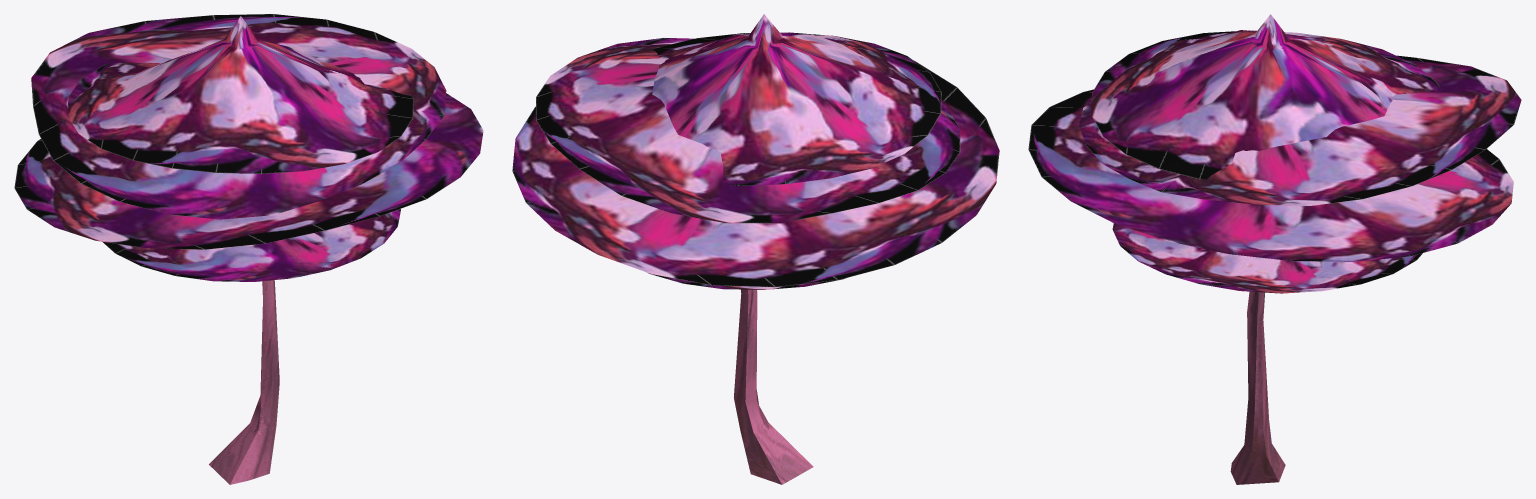
Rendered from arbre2v2.fbx.
3 views of the same model, side by side, from view 1: azimuth 30°, elevation 25°; view 2: azimuth 150°, elevation 25°; view 3: azimuth 270°, elevation 25° (orthographic). The views are drawn at different scales.
Visible parts, largest first — view 1: arbre2v2; view 2: arbre2v2; view 3: arbre2v2.
Part boxes in pixels (x1,y1,x2,y2): arbre2v2: [14, 14, 483, 484]; arbre2v2: [512, 14, 999, 484]; arbre2v2: [1028, 14, 1521, 484].
Size of the model in its own units: 10.34 by 10.82 by 10.41.
